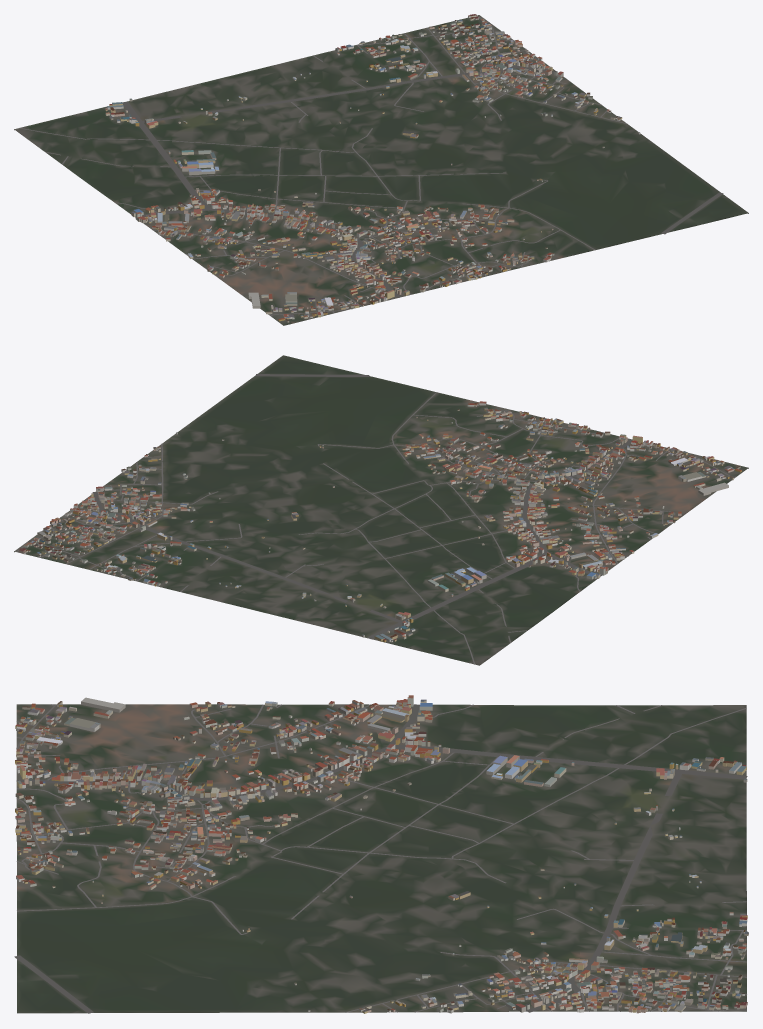
3 renders of one model, top to bottom at view 1: azimuth 30°, elevation 25°; view 2: azimuth 150°, elevation 25°; view 3: azimuth 270°, elevation 25°, orthographic. The views are drawn at different scales.
Visible parts, largest first — view 1: ground, buildings, roads; view 2: ground, buildings, roads; view 3: ground, buildings, roads.
Boxes of the visible parts, x1,y1,x2,y2 form: ground: (14,15,748,325); buildings: (105,14,640,322); roads: (19,15,723,319); ground: (14,355,748,665); buildings: (19,401,741,642); roads: (16,374,735,664); ground: (16,704,746,1013); buildings: (15,695,748,1013); roads: (14,704,747,1013).
Size of the model in its own units: 1420 by 23.22 by 1412.
